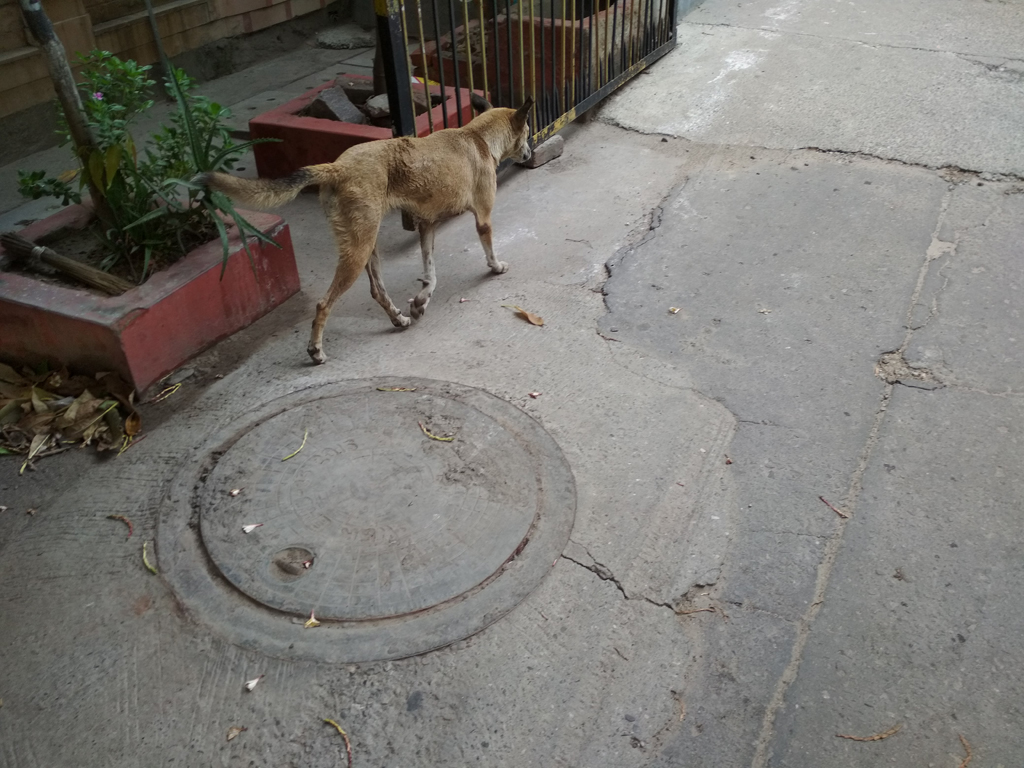dog: (206, 90, 533, 366)
